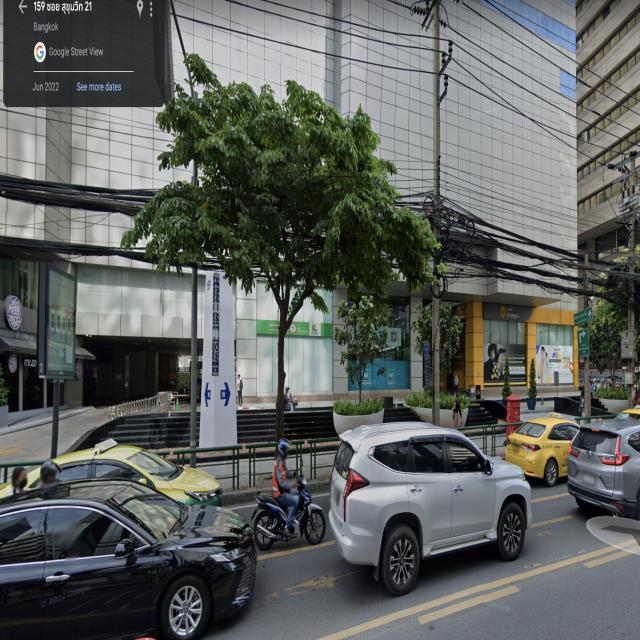tree: (143, 57, 431, 470), (576, 243, 640, 411), (330, 283, 390, 443), (406, 294, 465, 423)
